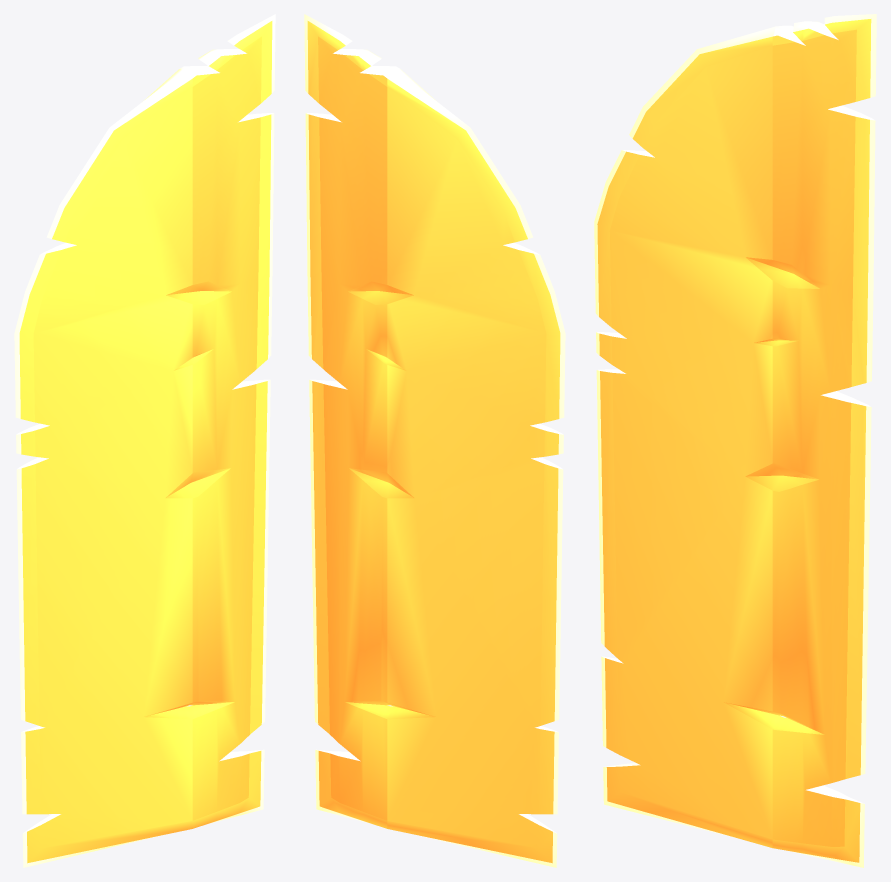
The model's file is gold_blade_scratched_054.glb.
3 renders of one model, left to right at view 1: azimuth 30°, elevation 25°; view 2: azimuth 150°, elevation 25°; view 3: azimuth 330°, elevation 25°, orthographic. The views are drawn at different scales.
Visible parts, largest first — view 1: gold_blade_scratched.054; view 2: gold_blade_scratched.054; view 3: gold_blade_scratched.054.
Boxes of the visible parts, bbox=[...] form: gold_blade_scratched.054: bbox=[14, 14, 275, 867]; gold_blade_scratched.054: bbox=[304, 14, 565, 867]; gold_blade_scratched.054: bbox=[594, 14, 876, 867].
Bounding box in the file's own units: 4.15 × 12.06 × 0.3631.
Materials: 1 (1 with a texture image).
